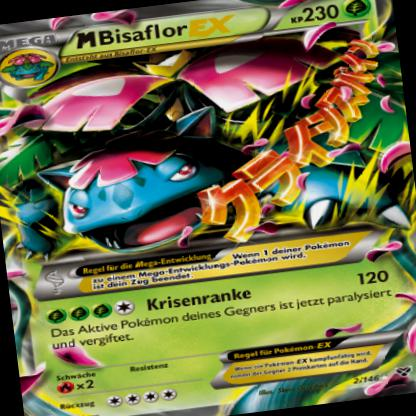Venusaur: (1, 43, 414, 266)
